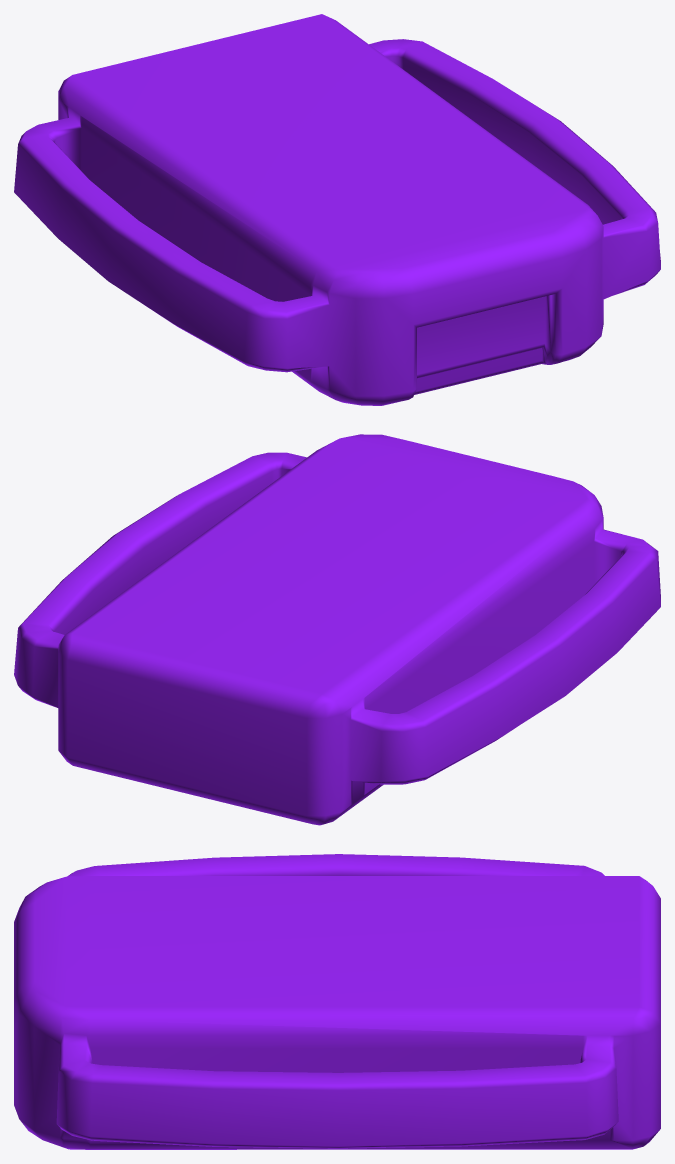
Rendered from extension.gltf.
3 renders of one model, top to bottom at view 1: azimuth 30°, elevation 25°; view 2: azimuth 150°, elevation 25°; view 3: azimuth 270°, elevation 25°, orthographic. The views are drawn at different scales.
Parts seen in each view (by area): view 1: RemeshedExtension; view 2: RemeshedExtension; view 3: RemeshedExtension.
Part boxes in pixels (x1,y1,x2,y2): RemeshedExtension: [14, 14, 660, 405]; RemeshedExtension: [14, 434, 660, 825]; RemeshedExtension: [14, 854, 660, 1149].
Size of the model in its own units: 0.3134 by 0.0884 by 0.357.
